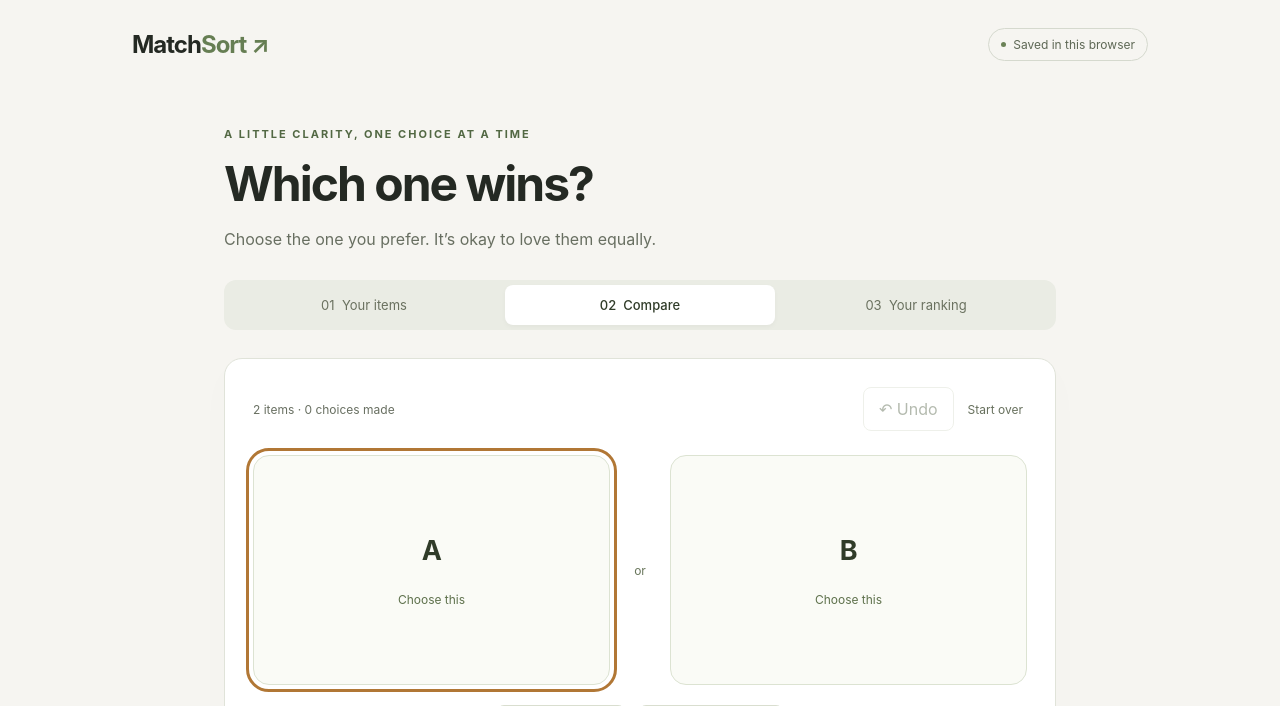
Scenario: records a winner from either side (A)
Step 1. Click the button with aria-label "Choose A" → (432, 599), box [253, 455, 610, 685]
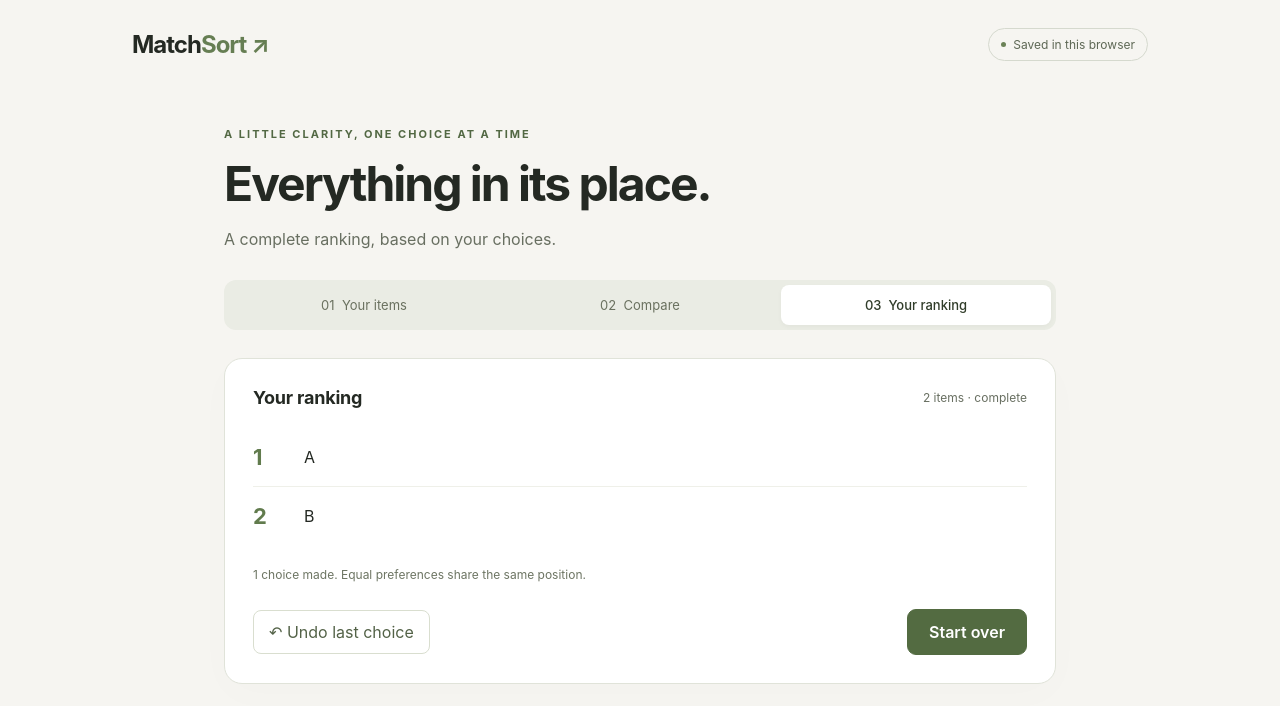
Check: the list item "1 A" is shown, box [253, 428, 1027, 487]
